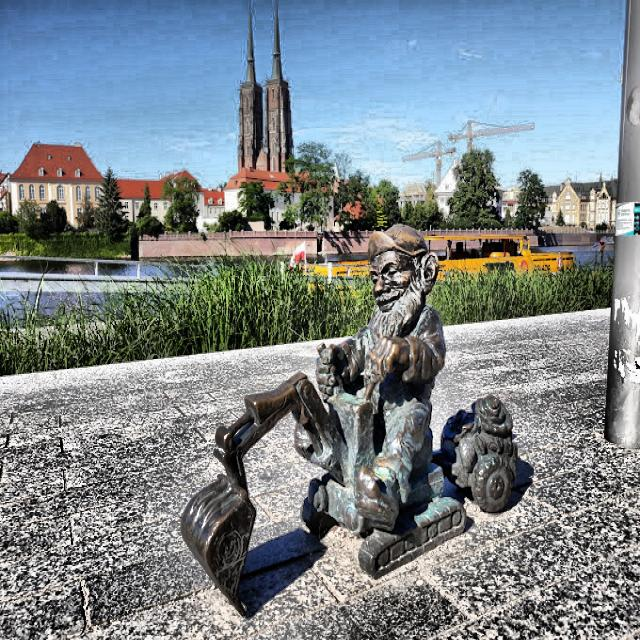Koparkus: (181, 225, 518, 614)
